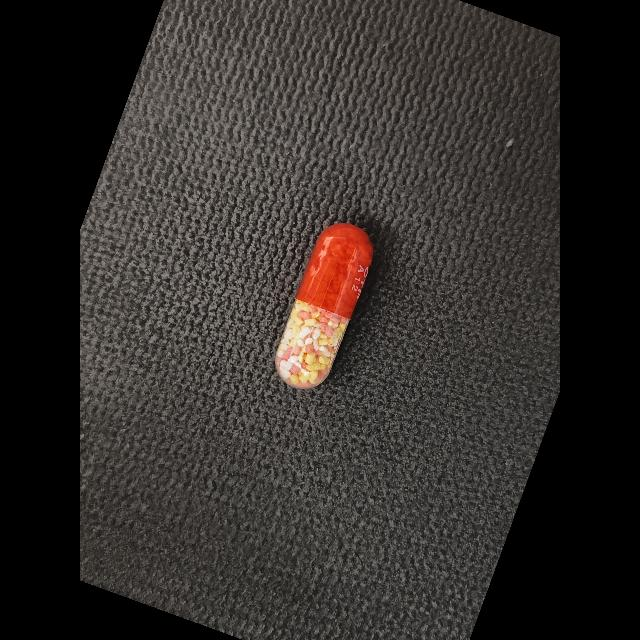Intact Capsule: (275, 223, 374, 389)
